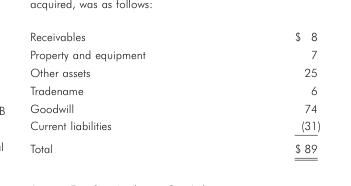table: (29, 28, 319, 155)
table column: (29, 28, 219, 155), (219, 28, 319, 155)
table row: (29, 116, 319, 136), (29, 136, 319, 155), (29, 44, 319, 62), (29, 62, 319, 80), (29, 80, 319, 98), (29, 98, 319, 116), (29, 28, 319, 44)
